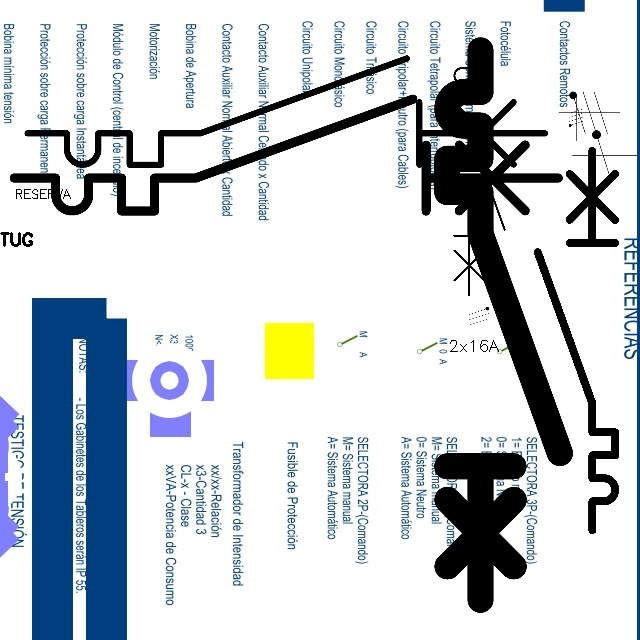interruptor_termomagnetico: (433, 36, 574, 614), (0, 85, 572, 225), (14, 45, 559, 178), (528, 141, 625, 540), (448, 43, 511, 302)
